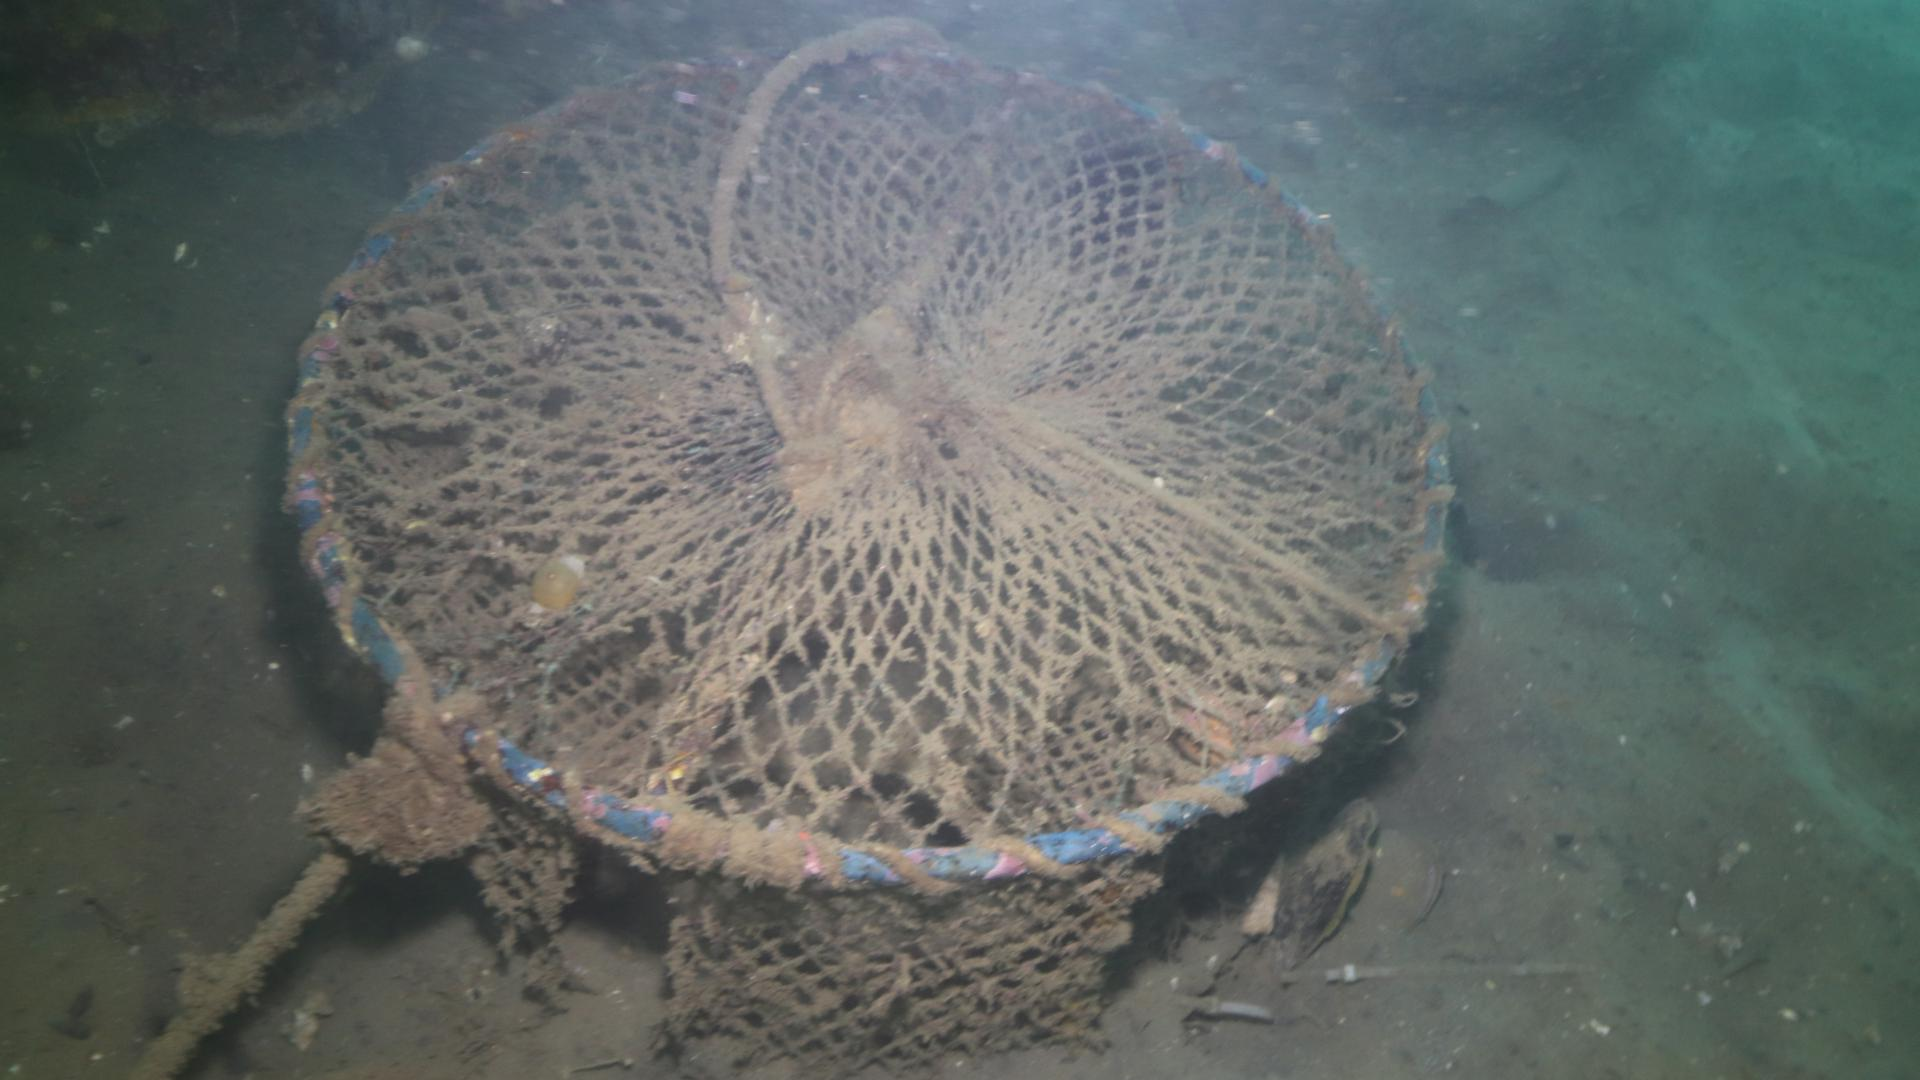circular fish trap: (286, 33, 1453, 1076)
